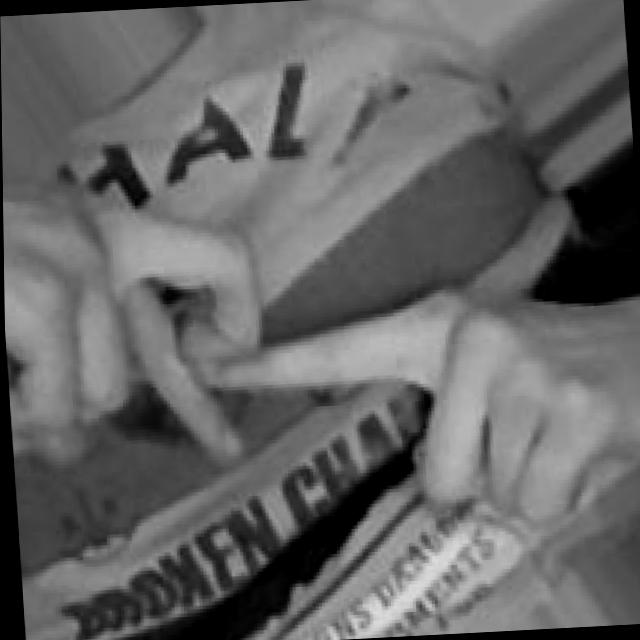R: (2, 159, 640, 556)
